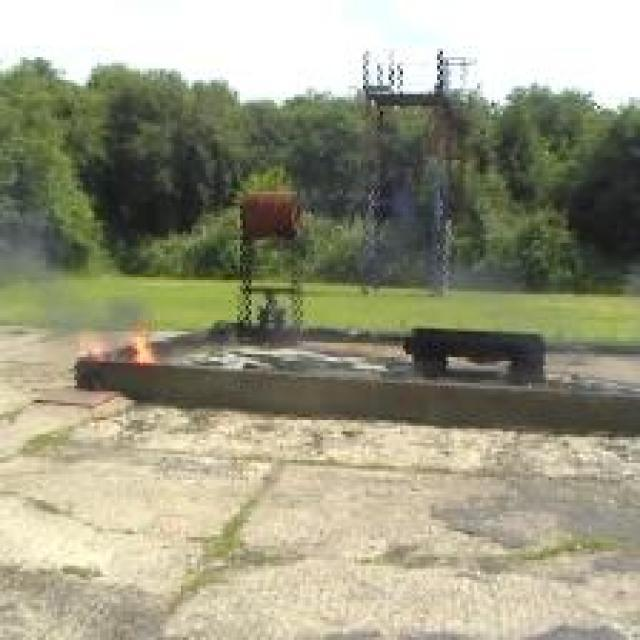Fire: (130, 328, 159, 363)
